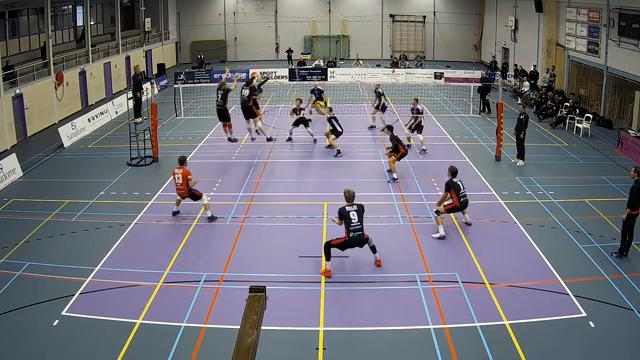attacco: (252, 74, 267, 128)
muro: (238, 70, 277, 146), (208, 66, 241, 145)
